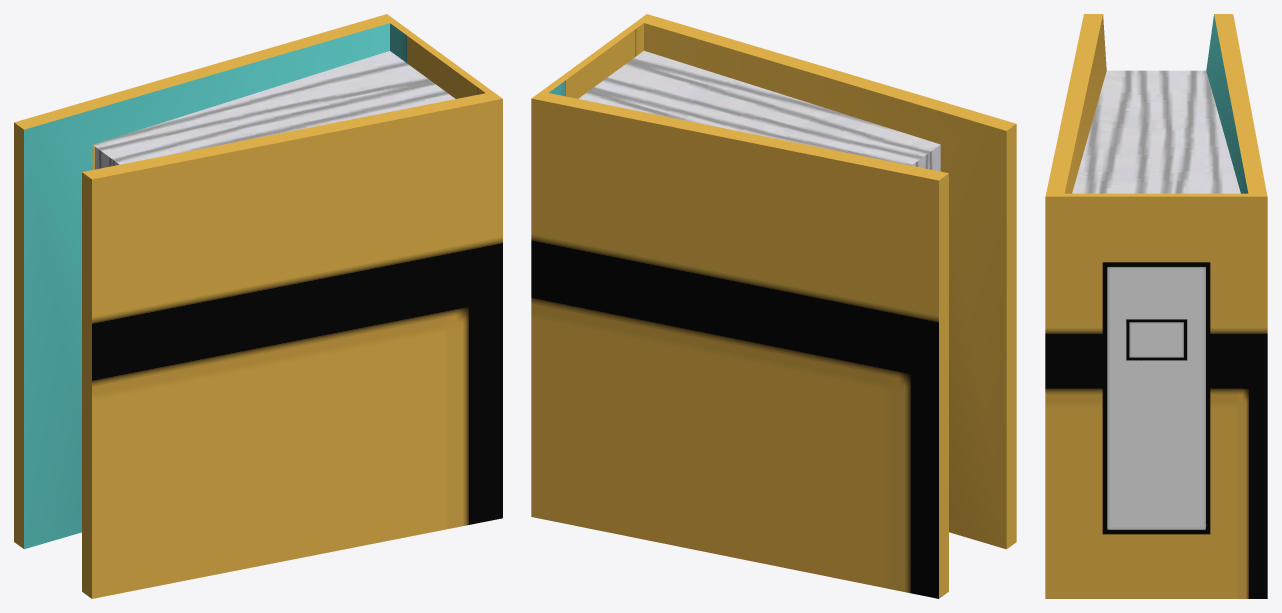
Rendered from Folder_Yellow_Individual.fbx.
3 renders of one model, left to right at view 1: azimuth 30°, elevation 25°; view 2: azimuth 150°, elevation 25°; view 3: azimuth 270°, elevation 25°, orthographic. The views are drawn at different scales.
Visible parts, largest first — view 1: Folder41; view 2: Folder41; view 3: Folder41.
Boxes of the visible parts, bbox=[...] form: Folder41: bbox=[14, 14, 502, 598]; Folder41: bbox=[531, 14, 1016, 598]; Folder41: bbox=[1045, 14, 1267, 598].
Bounding box in the file's own units: 30.04 × 30.73 × 15.38.
